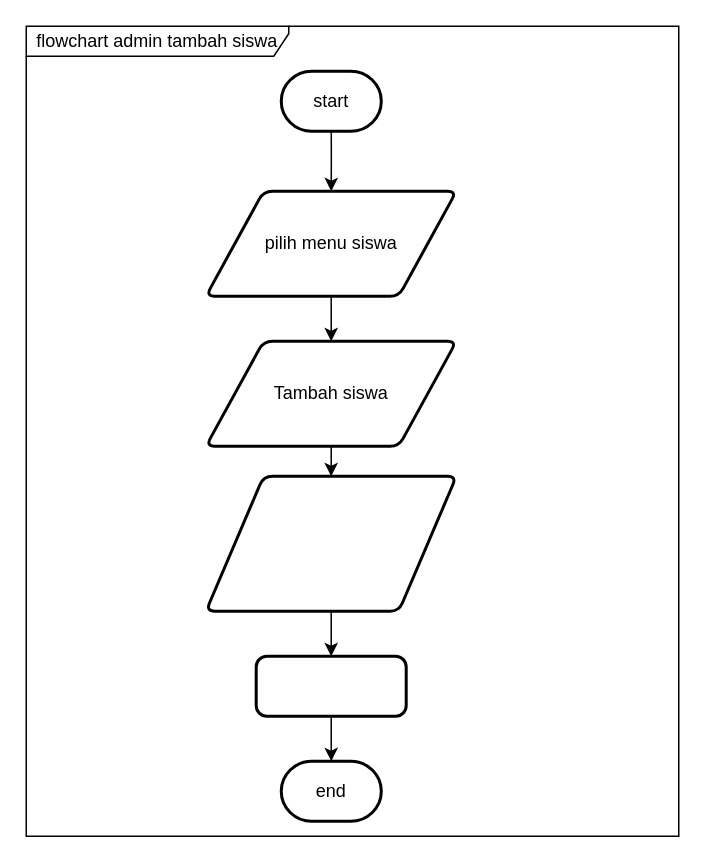
The diagram is 705 pixels wide and 863 high, and some of its shapes have lost their labels. Each missing label, with the centre of its shape:
Input : nisn,nama, jeniskelamin, username dan password: point 330,543
Insert data siswa: point 330,685
